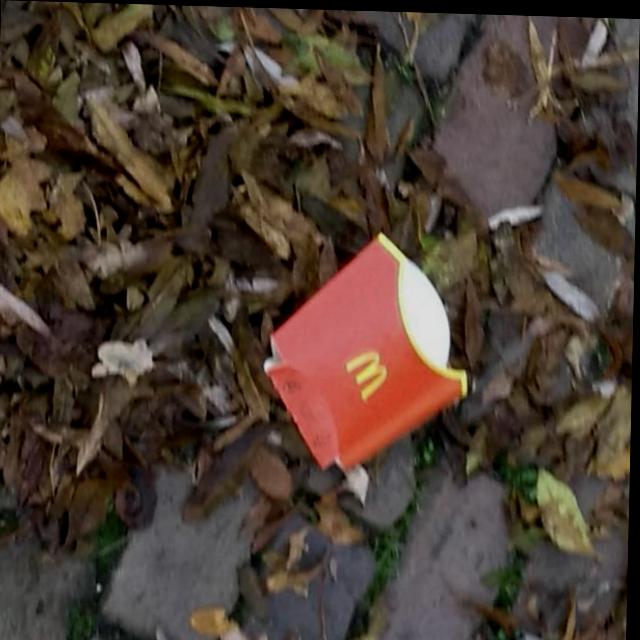Paper: (259, 224, 474, 473)
